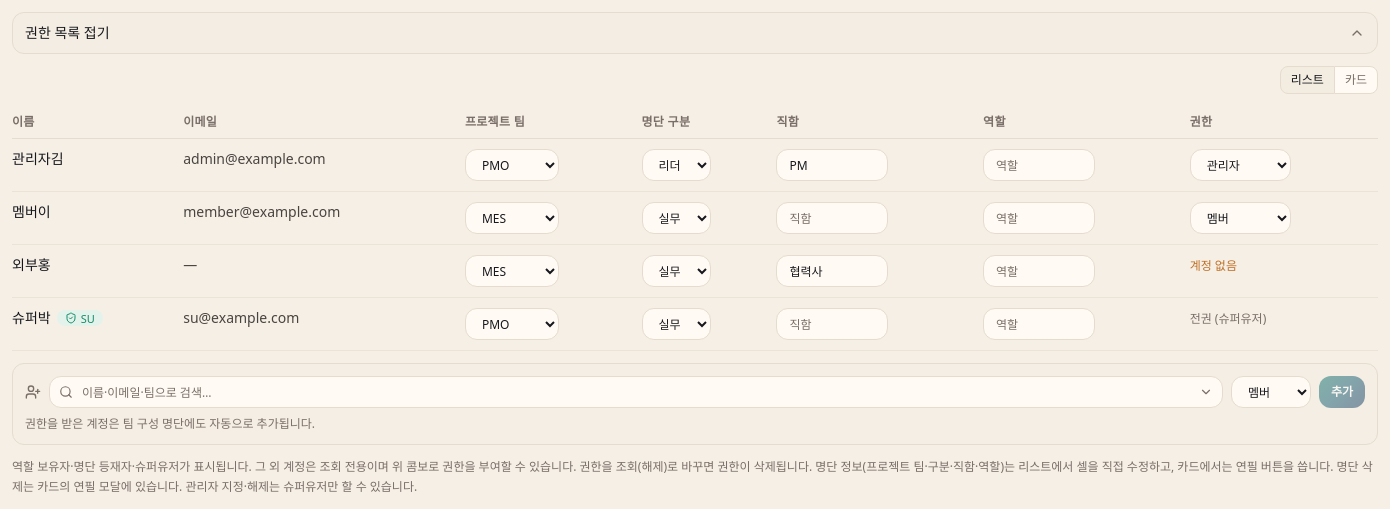
Test: ProjectRolesManager 참여자·권한 통합 표 › 기본 펼침 — 역할 보유자·명단 등재자·슈퍼유저가 보이고 무관 계정은 빠진다
Check: the table shows "관리자김", box [12,149,64,168]
Check: the table shows "멤버이", box [12,202,51,221]
Click the button "권한 목록 접기". click: [67, 32]
box: [12,12,1378,54]
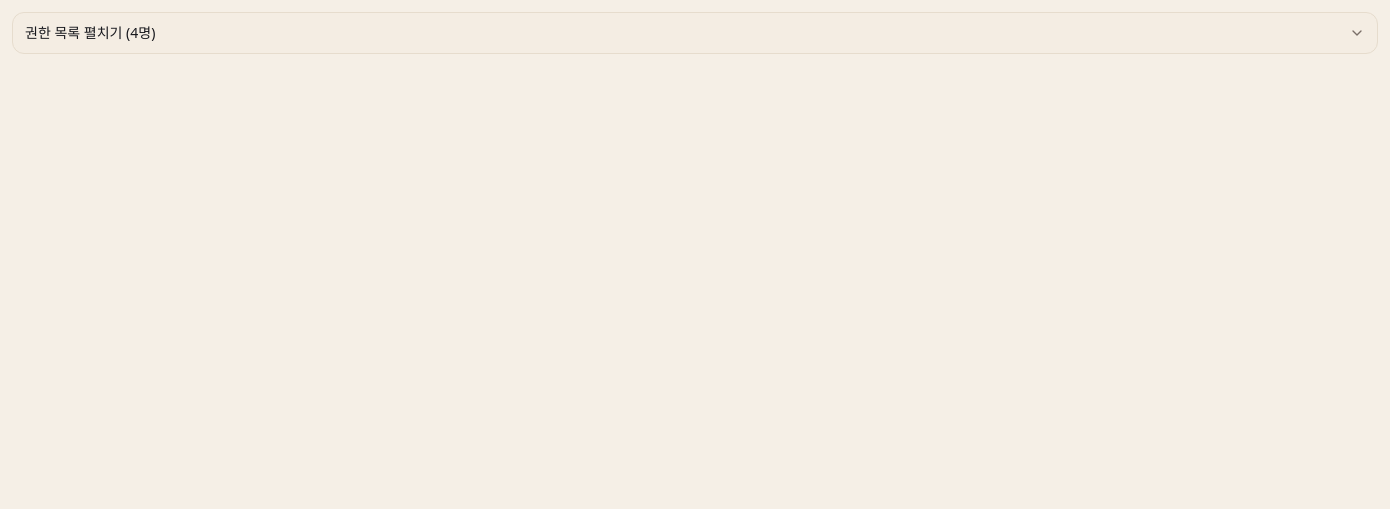
Check: the button "권한 목록 펼치기 (4명)" is shown, box [12,12,1378,54]
